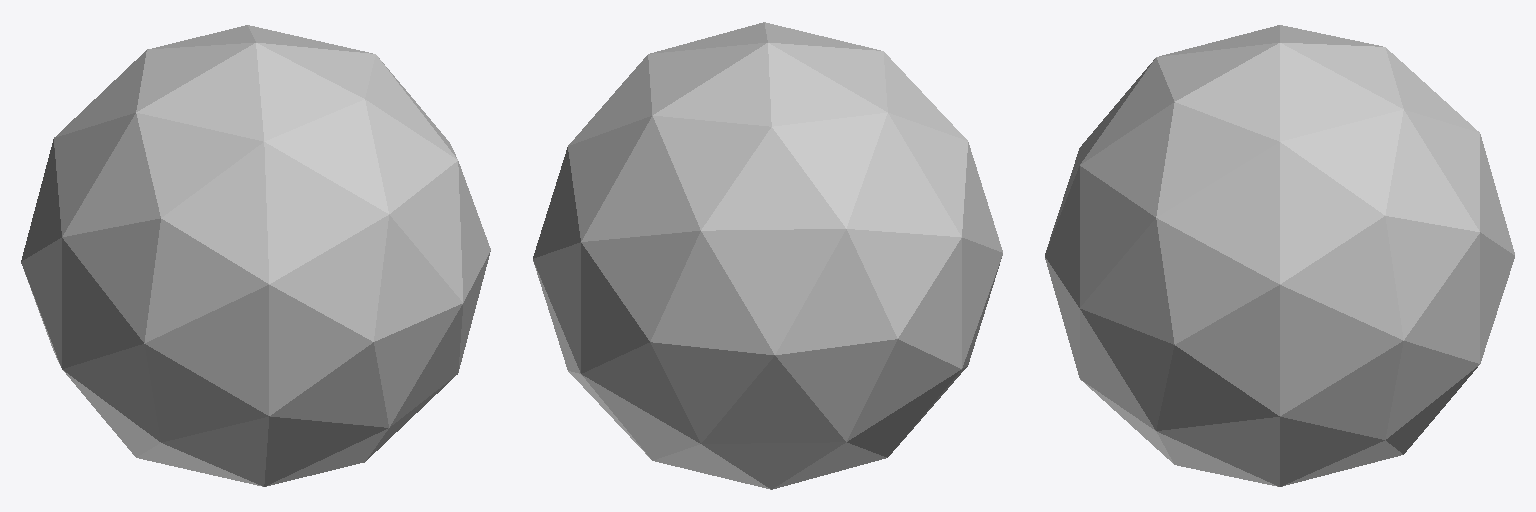
Rendered from ball80.obj.
3 renders of one model, left to right at view 1: azimuth 30°, elevation 25°; view 2: azimuth 150°, elevation 25°; view 3: azimuth 270°, elevation 25°, orthographic.
Parts seen in each view (by area): view 1: pPlatonic1; view 2: pPlatonic1; view 3: pPlatonic1.
Part boxes in pixels (x1,y1,x2,y2): pPlatonic1: (21, 25, 490, 486); pPlatonic1: (533, 22, 1002, 489); pPlatonic1: (1045, 25, 1514, 486).
Bounding box in the file's own units: 1.9 × 2 × 2.